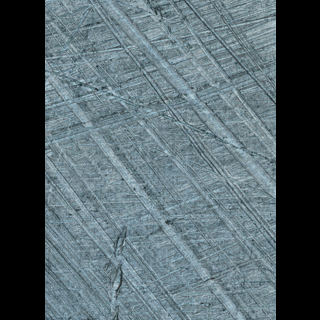d: (99, 222, 131, 319)
